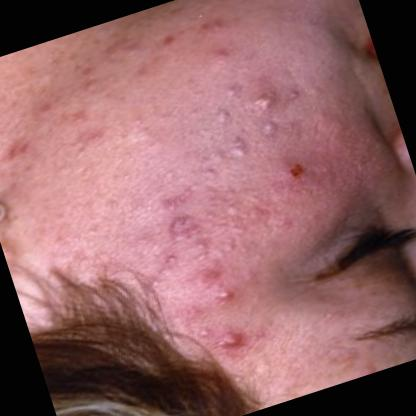Acne: (216, 130, 255, 168), (214, 322, 249, 352), (245, 88, 277, 118), (206, 283, 238, 308), (254, 115, 284, 140)
